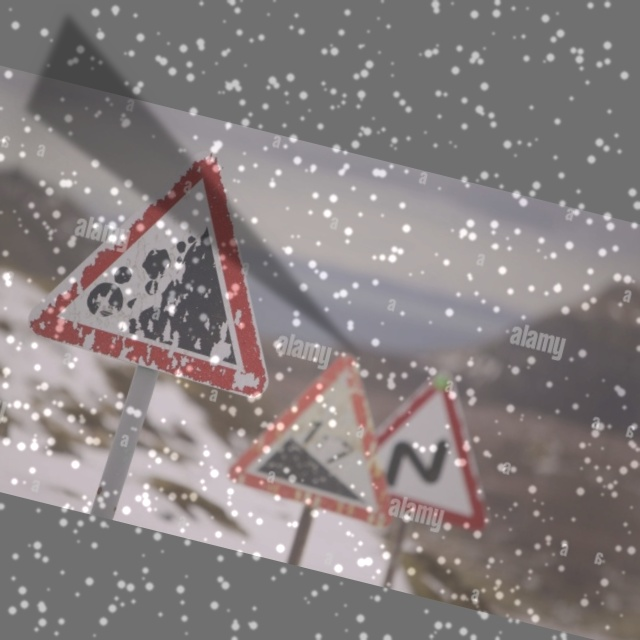Falling_Rocks: (39, 127, 305, 395)
